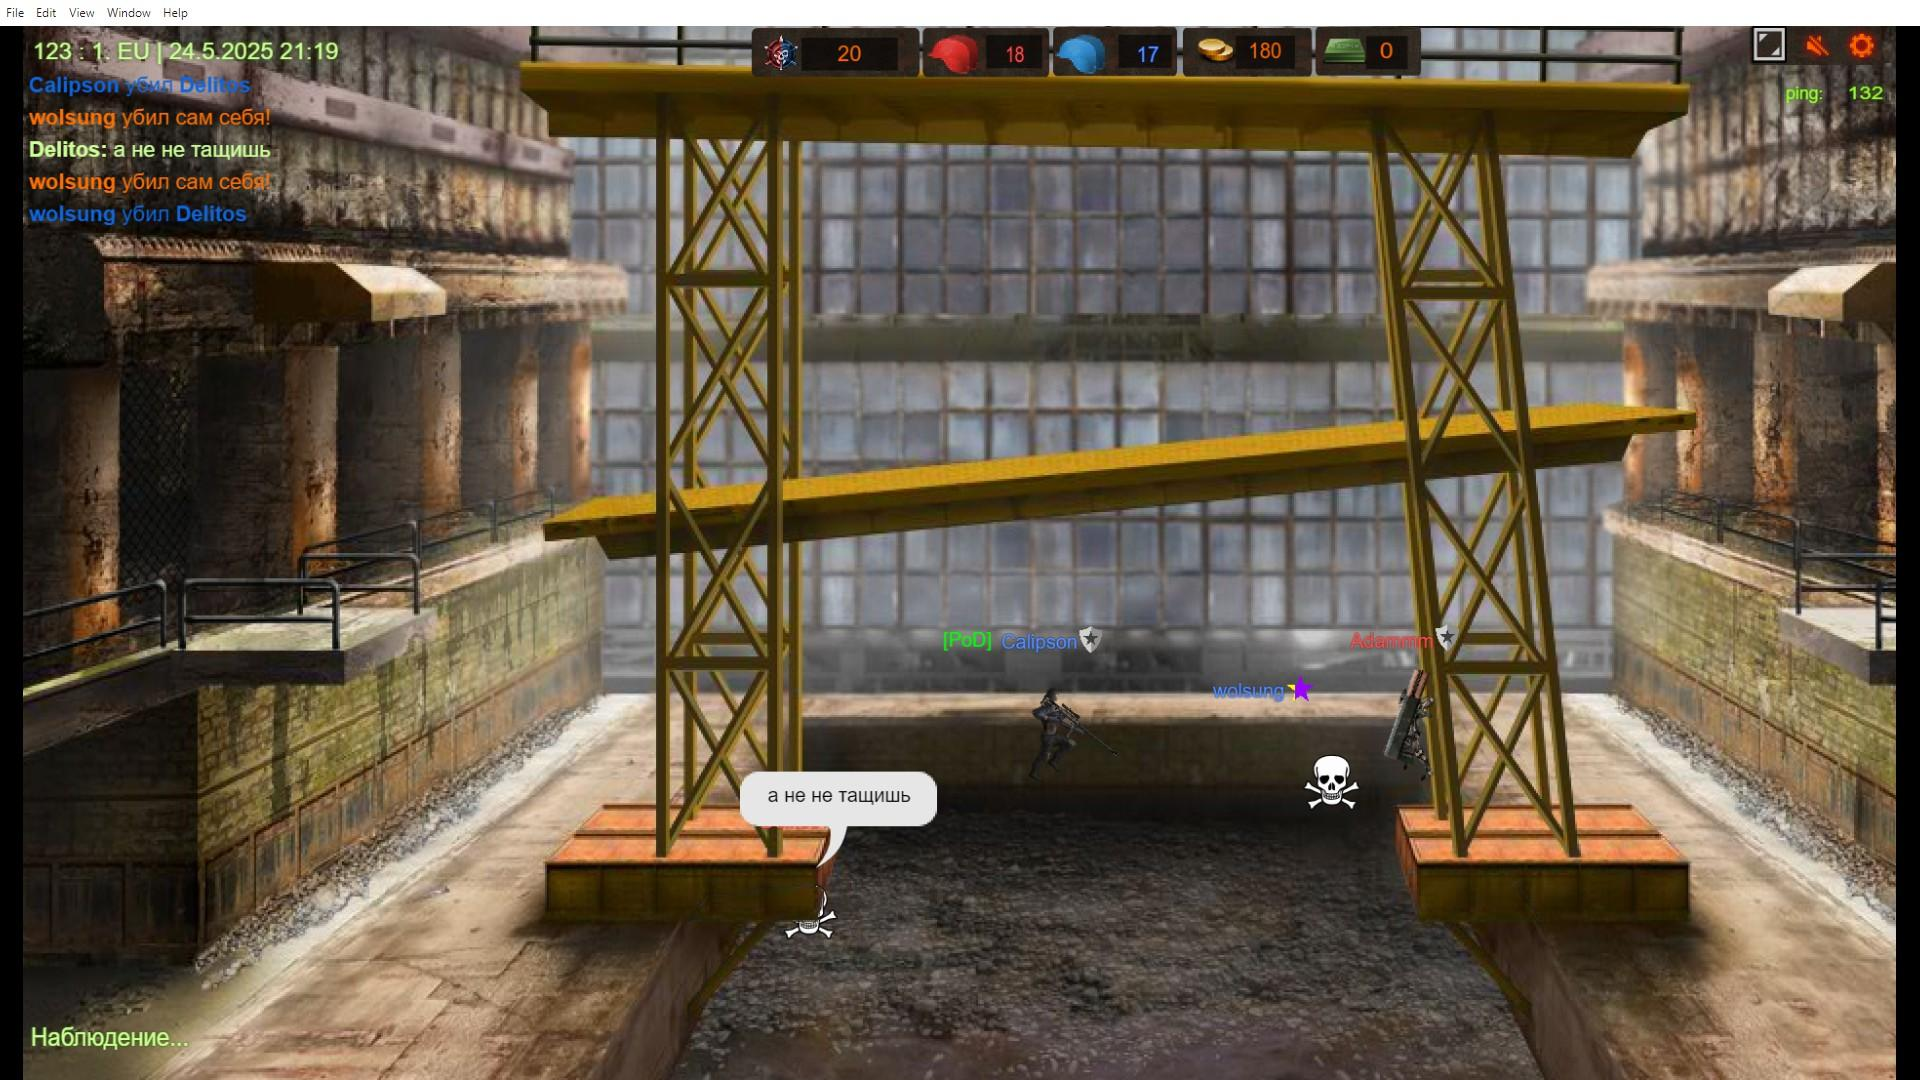enemy: (1400, 687, 1428, 779), (1042, 690, 1060, 781)
